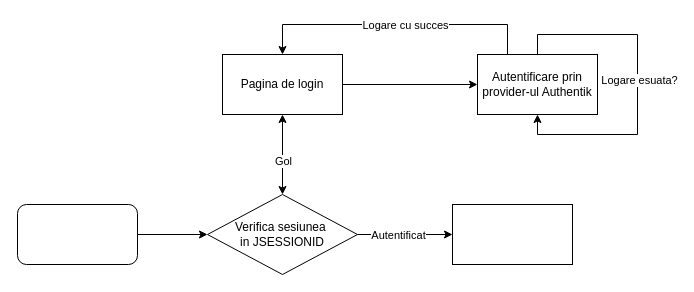
This 694x292 diagram has some shape labels left out. The box of each missing label's shape, as (x1, y1, x2, y2) in pixels:
Se raspunde cu pagina de React (SPA): (452, 204, 572, 264)
Start (request primit): (16, 204, 138, 264)
